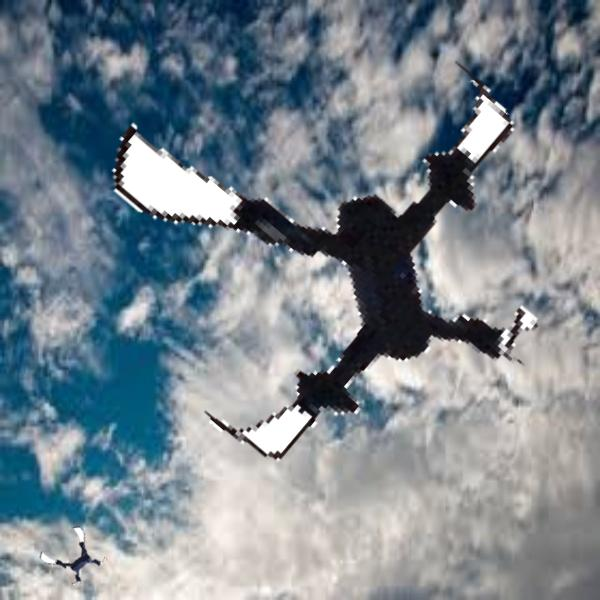drone: (88, 1, 570, 483), (46, 530, 105, 589)
